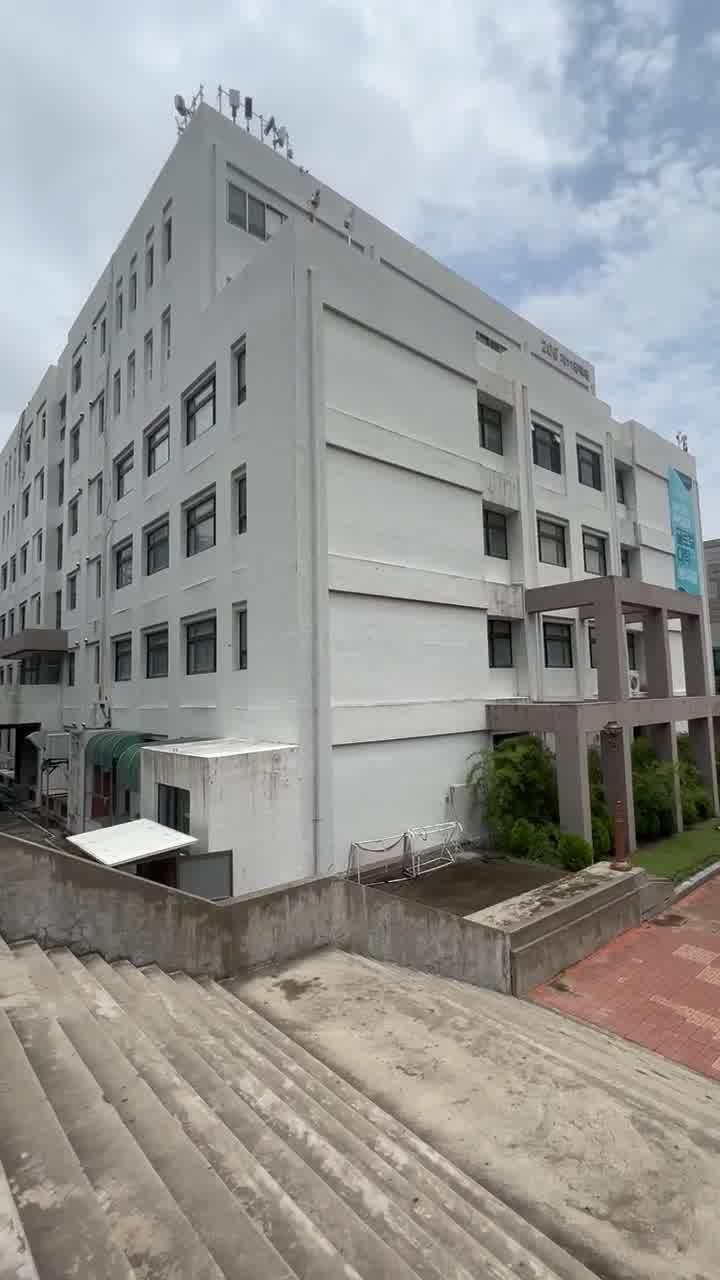building: (34, 100, 712, 812)
